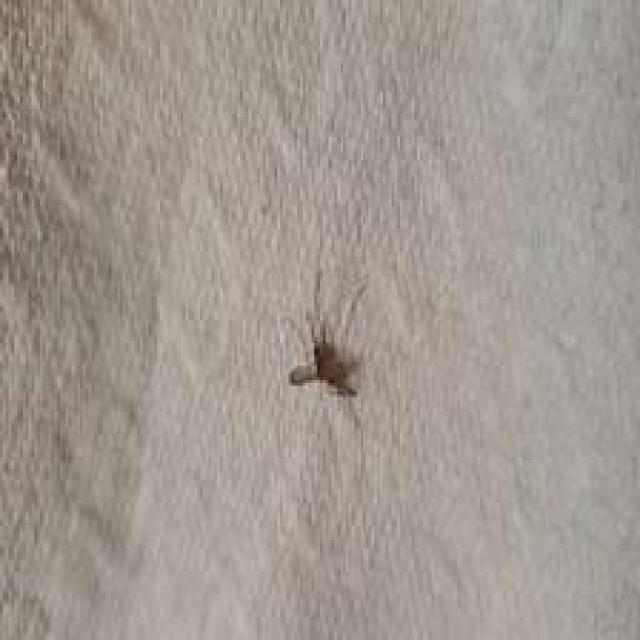Culex: (287, 323, 359, 400)
